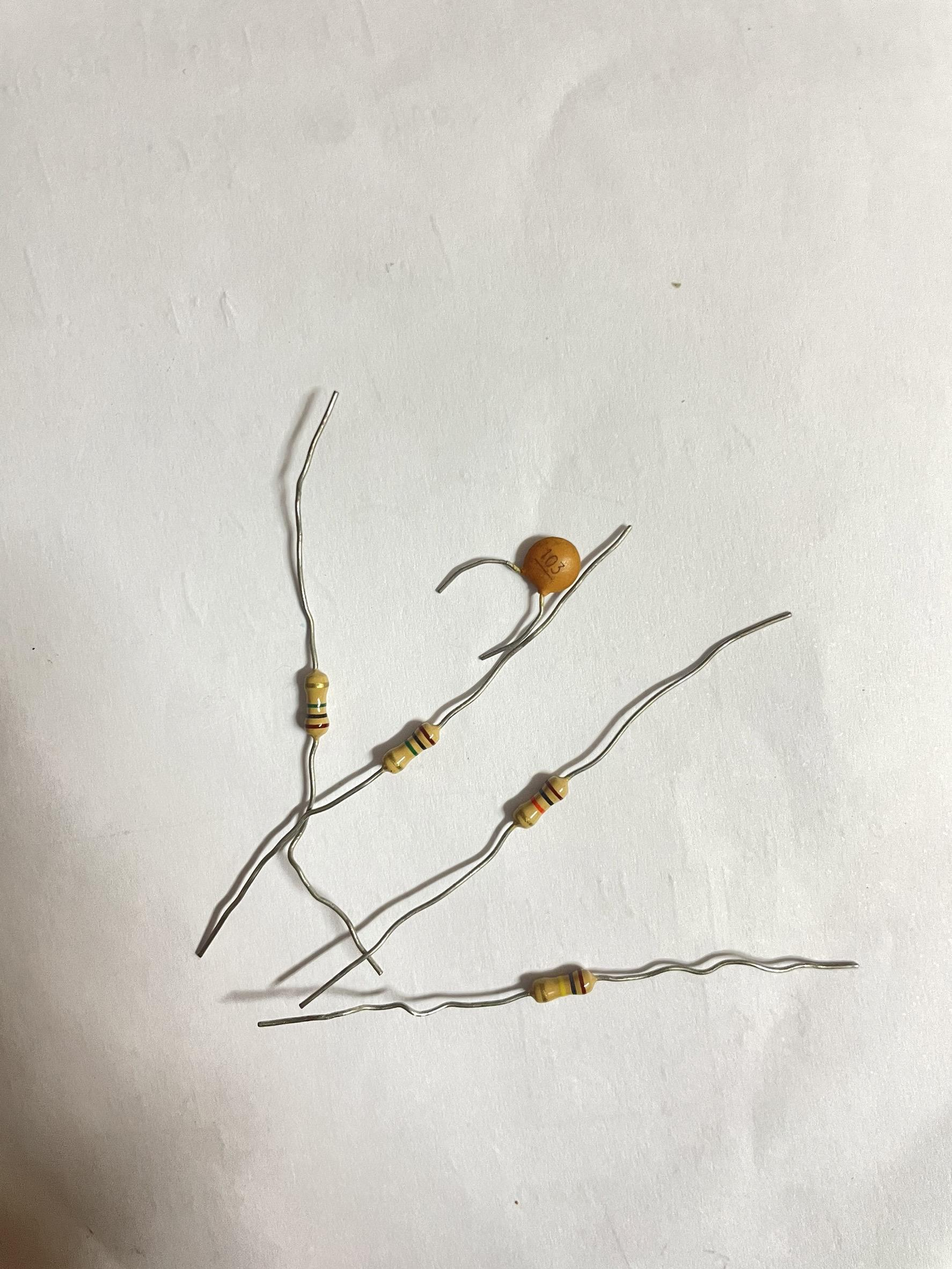resistor: (512, 774, 581, 833), (381, 721, 444, 772), (526, 965, 595, 1001), (299, 670, 331, 740)
